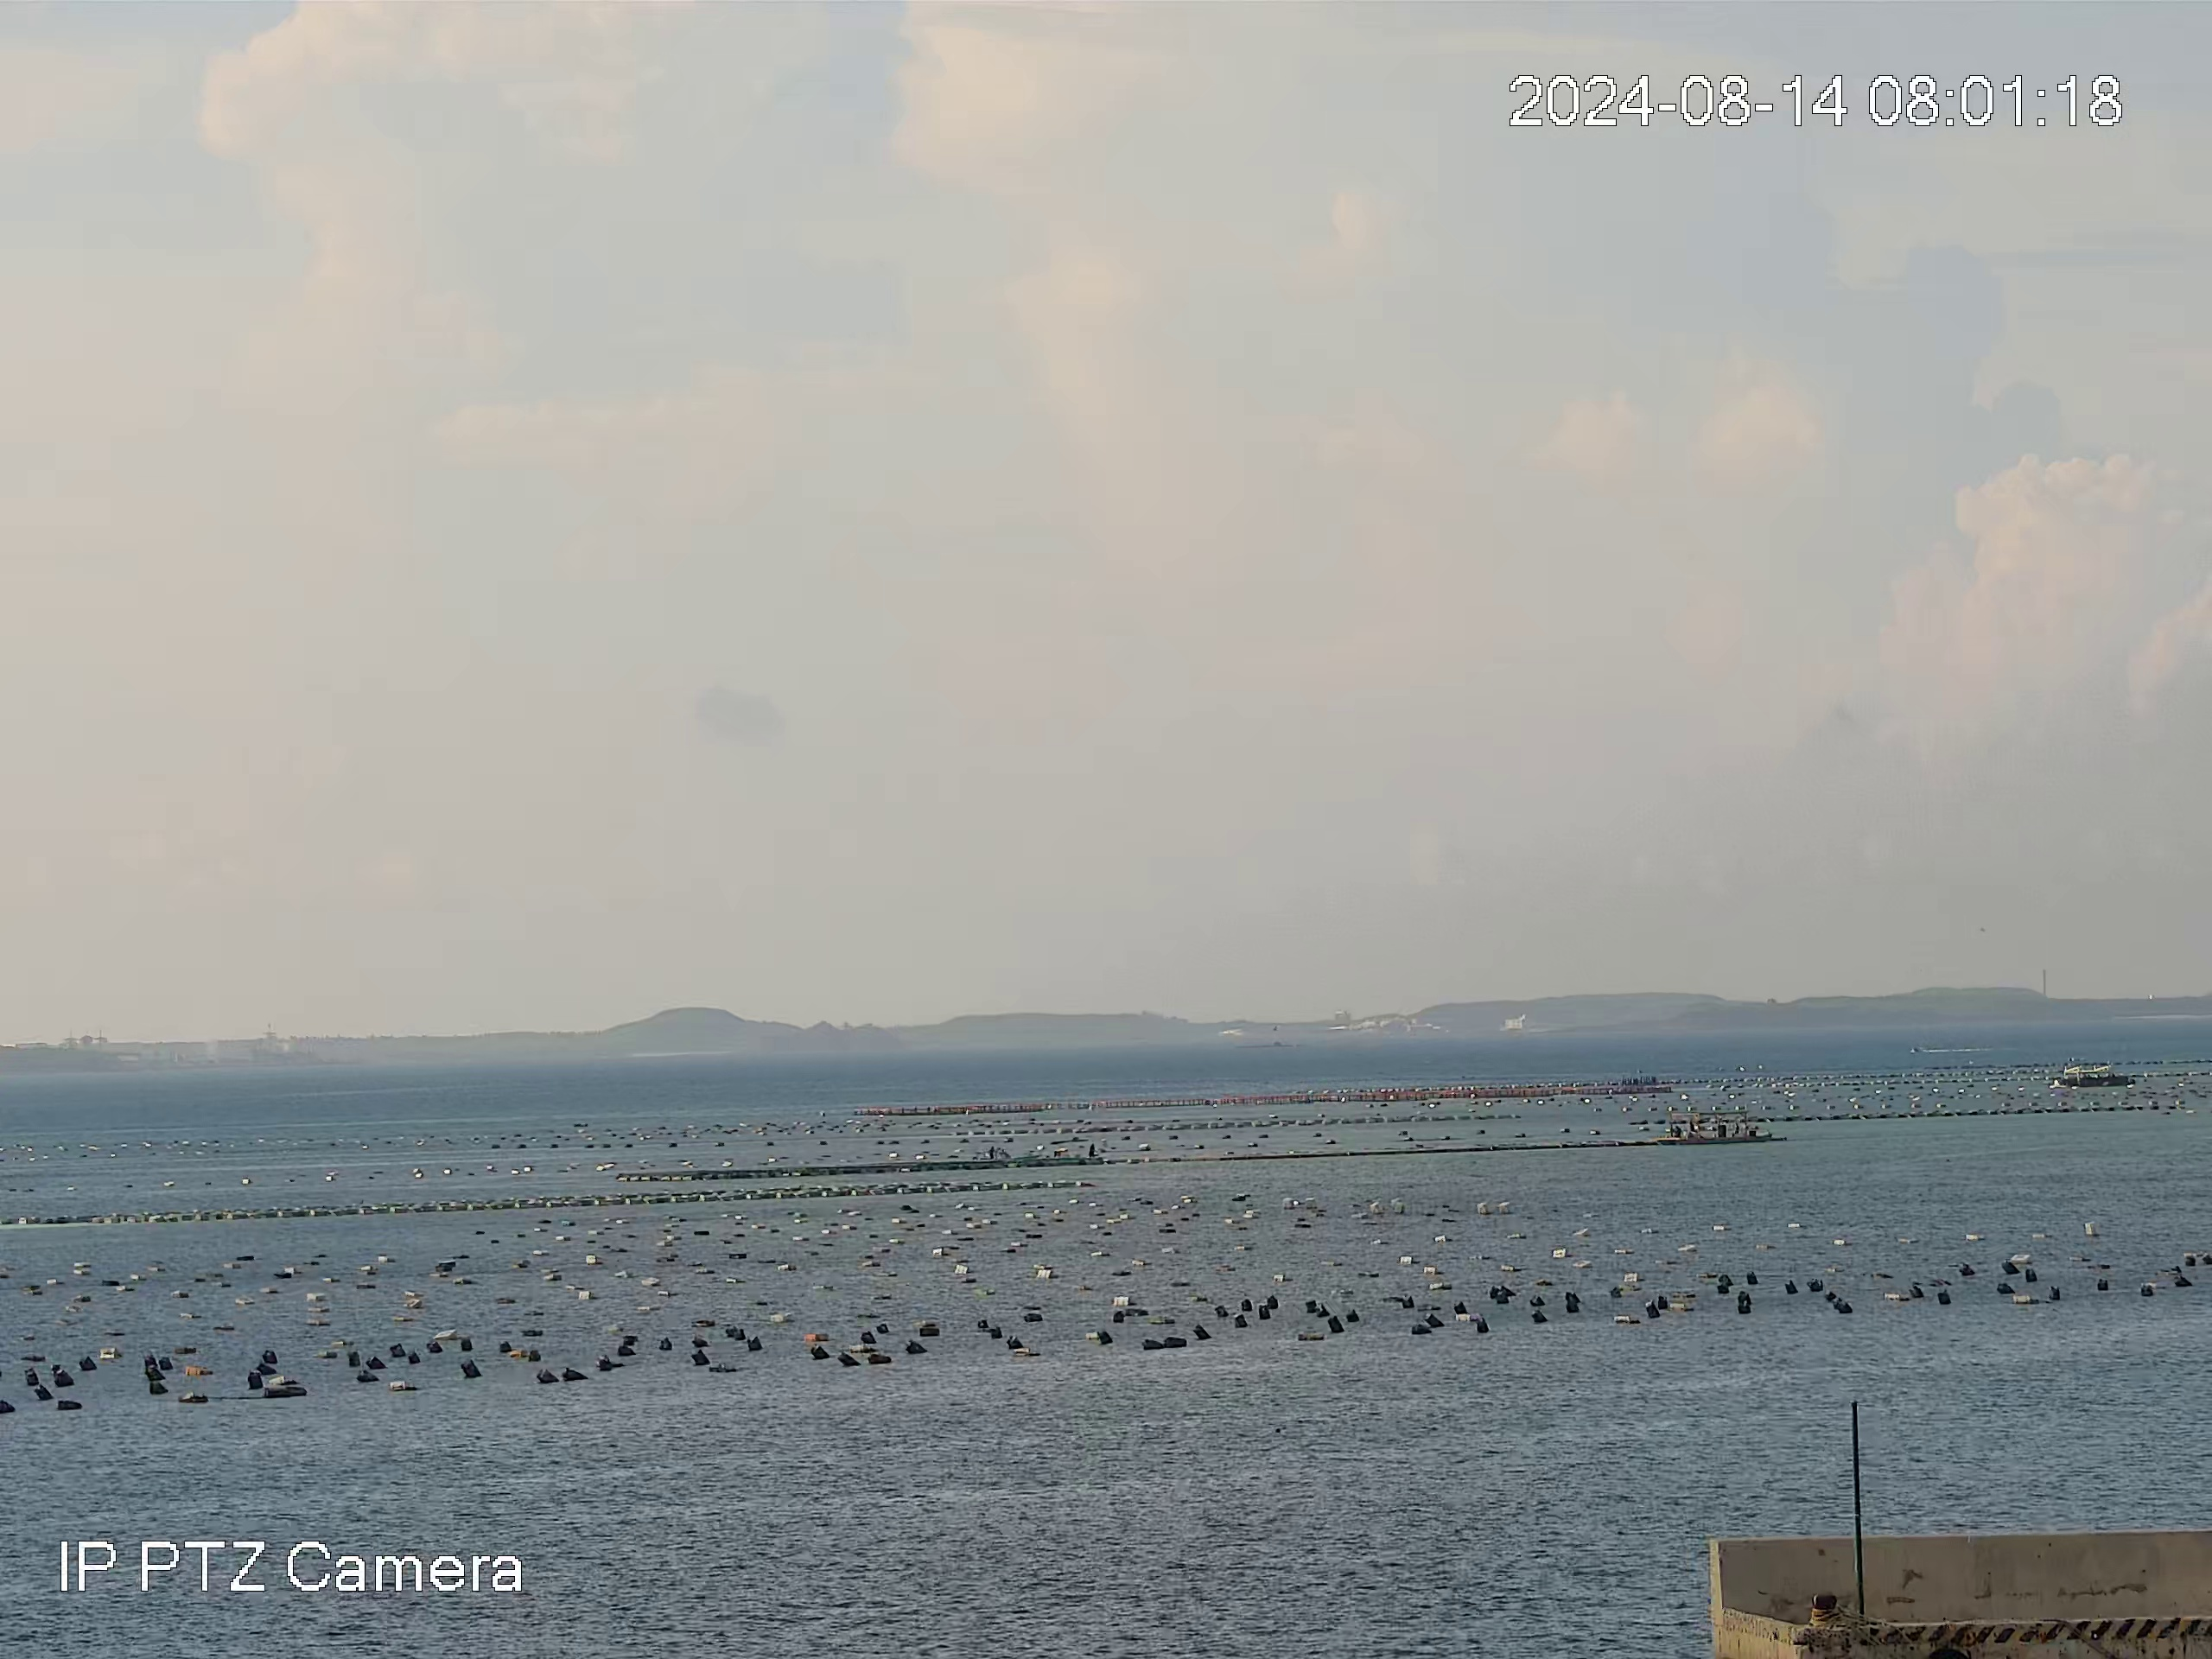boat: (1658, 1108, 1777, 1143), (2059, 1060, 2135, 1086)
